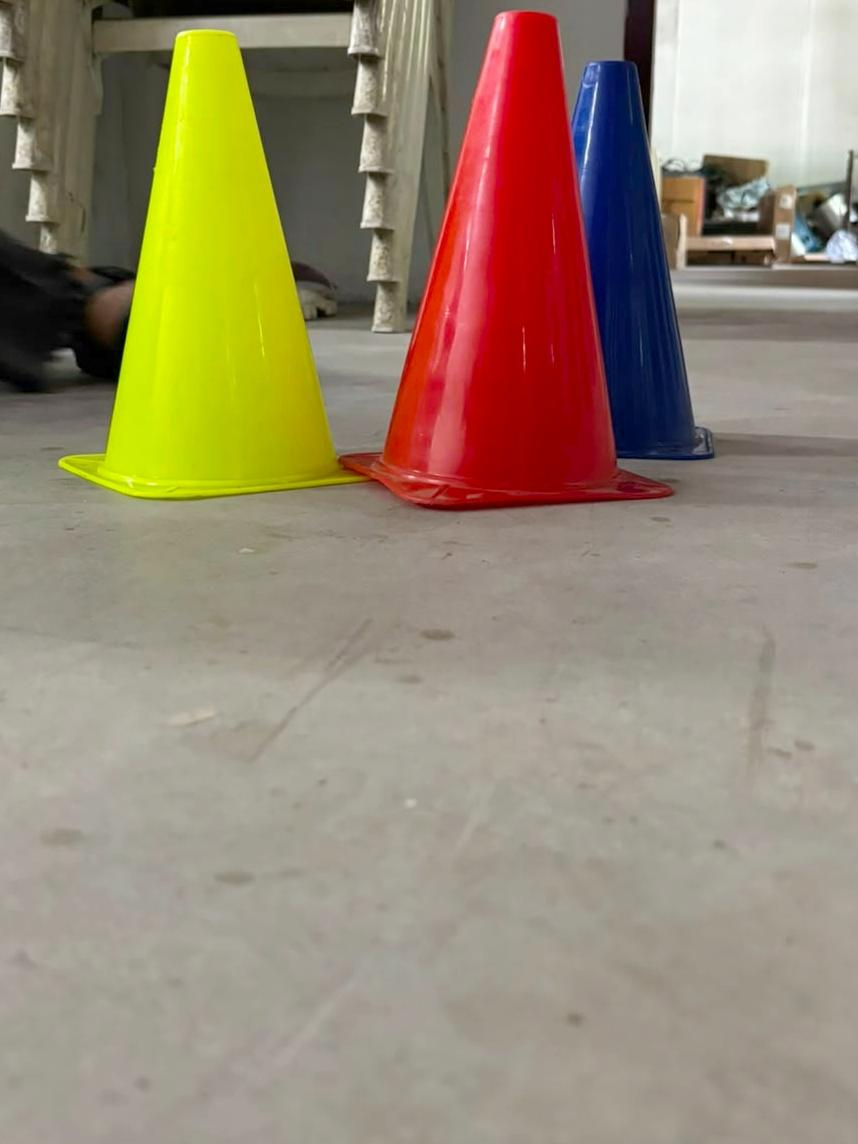0 cone: (60, 11, 713, 508)
